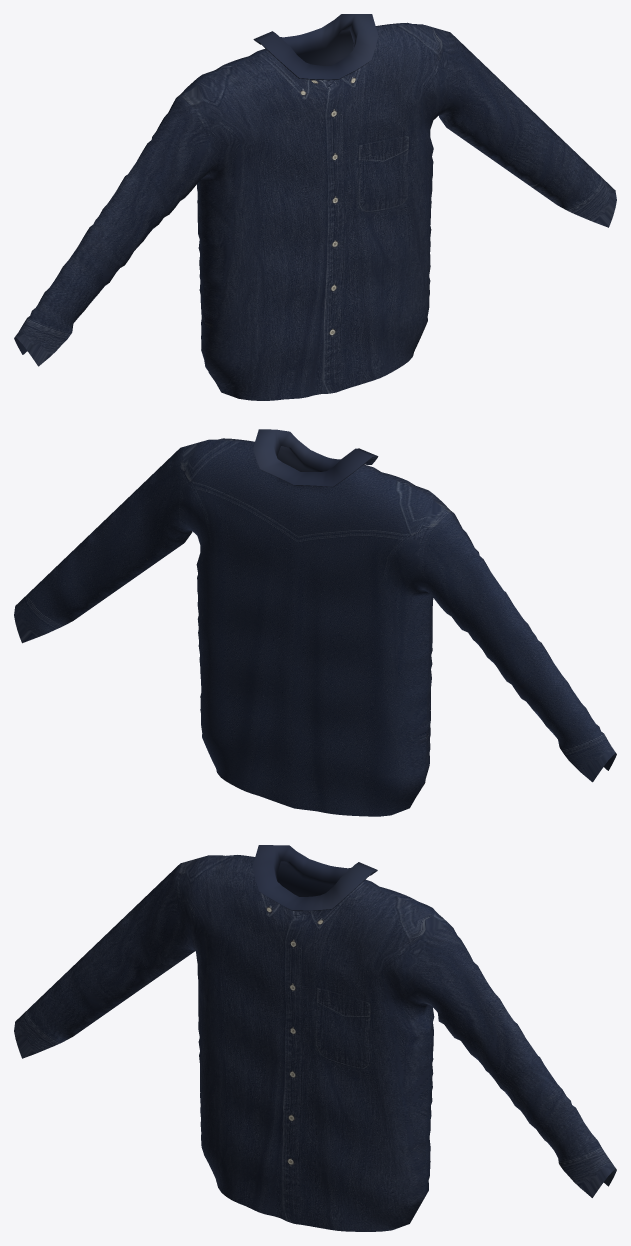
The model's file is shirt.glb.
3 views of the same model, one above another, from view 1: azimuth 30°, elevation 25°; view 2: azimuth 150°, elevation 25°; view 3: azimuth 330°, elevation 25° (orthographic).
Parts seen in each view (by area): view 1: ConnectedDoubleShell; view 2: ConnectedDoubleShell; view 3: ConnectedDoubleShell.
Boxes of the visible parts, x1,y1,x2,y2 form: ConnectedDoubleShell: [14, 14, 616, 400]; ConnectedDoubleShell: [14, 429, 616, 816]; ConnectedDoubleShell: [14, 845, 616, 1231].
Size of the model in its own units: 1.4 by 0.7911 by 0.1831.
1 material, 1 textured.
